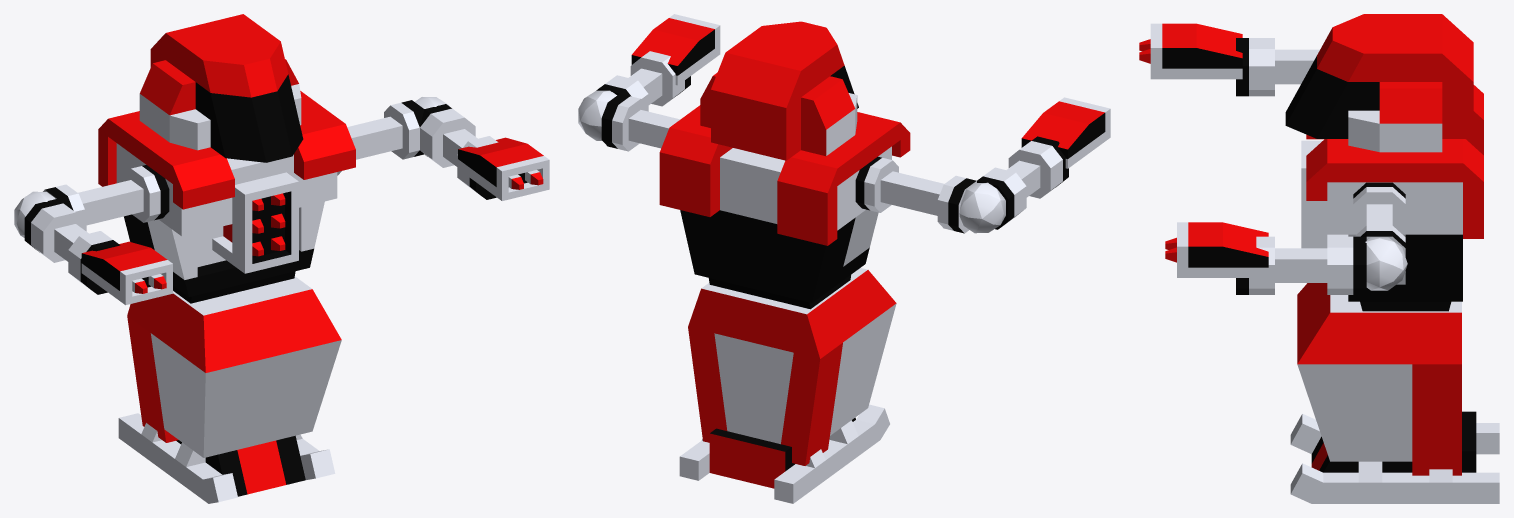
File: Main_Char_1.fbx
3 views of the same model, side by side, from view 1: azimuth 30°, elevation 25°; view 2: azimuth 150°, elevation 25°; view 3: azimuth 270°, elevation 25° (orthographic). The views are drawn at different scales.
Parts seen in each view (by area): view 1: body_default, chest_shoulders, head_marine, foot_ski, weapon_turretSmall (×2), socket_double (×2), socket_medium (×2), weapon_turretLarge, icosphere; view 2: chest_shoulders, body_default, head_marine, foot_ski, socket_double (×2), weapon_turretSmall (×2), socket_medium (×2), icosphere (×2); view 3: body_default, head_marine, chest_shoulders, foot_ski, weapon_turretSmall (×2), socket_medium (×2), socket_double, icosphere, weapon_turretLarge.
Part boxes in pixels (x1,y1,x2,y2): body_default: [127, 276, 341, 457]; chest_shoulders: [98, 91, 355, 303]; head_marine: [139, 14, 303, 162]; foot_ski: [118, 413, 335, 503]; weapon_turretSmall (×2): [81, 137, 549, 305]; socket_double (×2): [43, 100, 424, 225]; socket_medium (×2): [24, 104, 498, 294]; weapon_turretLarge: [212, 172, 298, 273]; icosphere: [14, 191, 55, 237]; chest_shoulders: [659, 105, 910, 309]; body_default: [688, 268, 896, 465]; head_marine: [700, 21, 858, 160]; foot_ski: [679, 404, 889, 503]; socket_double (×2): [601, 93, 976, 233]; weapon_turretSmall (×2): [631, 14, 1110, 168]; socket_medium (×2): [596, 51, 1068, 229]; icosphere (×2): [578, 90, 1005, 233]; body_default: [1297, 283, 1461, 475]; head_marine: [1285, 14, 1473, 152]; chest_shoulders: [1306, 85, 1483, 311]; foot_ski: [1290, 411, 1499, 503]; weapon_turretSmall (×2): [1139, 23, 1268, 277]; socket_medium (×2): [1236, 38, 1366, 294]; socket_double: [1353, 182, 1405, 272]; icosphere: [1365, 237, 1407, 290]; weapon_turretLarge: [1301, 140, 1348, 248].
Size of the model in its own units: 20.2 by 18.6 by 13.8.
